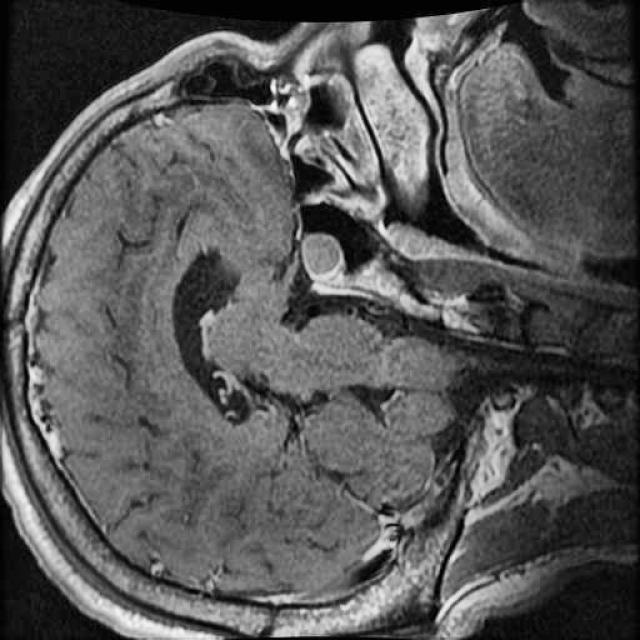Tumor: (292, 221, 356, 288)
